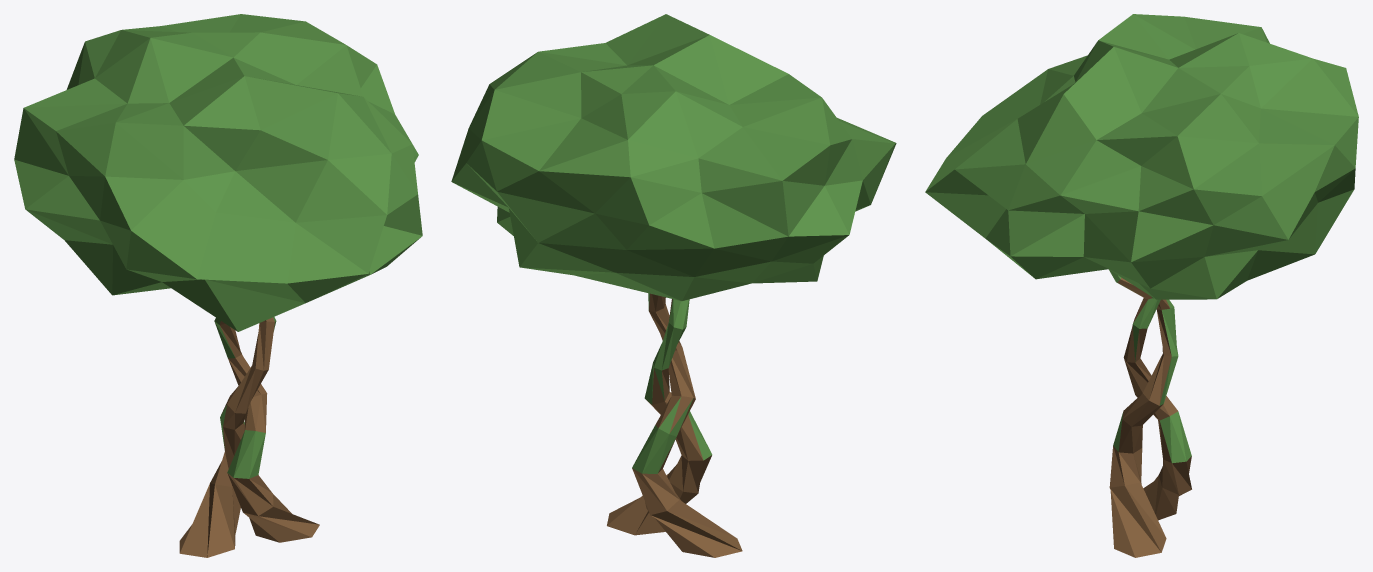
Rendered from tree3d-192.glb.
3 renders of one model, left to right at view 1: azimuth 30°, elevation 25°; view 2: azimuth 150°, elevation 25°; view 3: azimuth 270°, elevation 25°, orthographic. The views are drawn at different scales.
Visible parts, largest first — view 1: tree3d-192; view 2: tree3d-192; view 3: tree3d-192.
Boxes of the visible parts, bbox=[...] form: tree3d-192: bbox=[14, 14, 422, 557]; tree3d-192: bbox=[451, 14, 896, 557]; tree3d-192: bbox=[925, 14, 1358, 557].
Bounding box in the file's own units: 0.7899 × 1 × 0.837.
